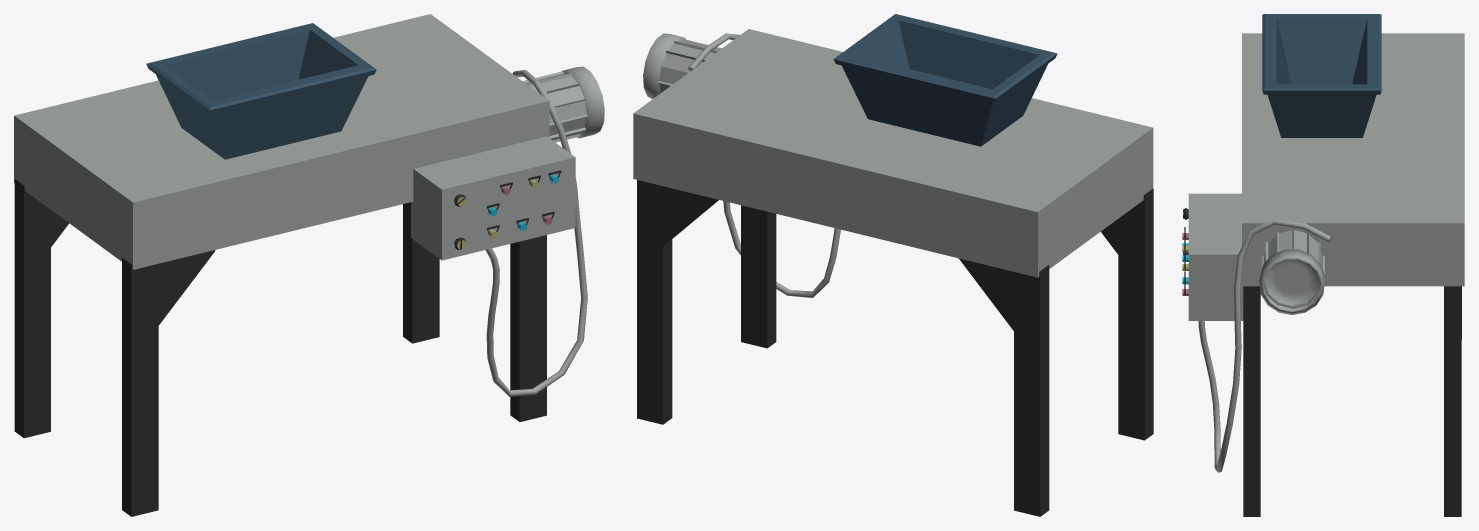
The model's file is paper_recycle_machine.fbx.
3 renders of one model, left to right at view 1: azimuth 30°, elevation 25°; view 2: azimuth 150°, elevation 25°; view 3: azimuth 270°, elevation 25°, orthographic. The views are drawn at different scales.
Visible parts, largest first — view 1: pCube1, pCube10, pCube2, polySurface1, polySurface5, polySurface3, polySurface4, pCylinder19, pCylinder17, pCylinder18; view 2: pCube1, pCube10, polySurface5, polySurface4, polySurface1, polySurface3, pCylinder19, pCylinder17, pCylinder18; view 3: pCube1, pCube10, pCube2, polySurface4, polySurface3, pCylinder18, pCylinder19, pCylinder17.
Part boxes in pixels (x1,y1,x2,y2): pCube1: [14, 14, 549, 269]; pCube10: [146, 23, 376, 159]; pCube2: [411, 136, 575, 260]; polySurface1: [122, 250, 215, 516]; polySurface5: [14, 179, 68, 438]; polySurface3: [510, 235, 546, 421]; polySurface4: [403, 202, 439, 343]; pCylinder19: [485, 70, 587, 396]; pCylinder17: [522, 71, 588, 142]; pCylinder18: [561, 66, 604, 138]; pCube1: [633, 29, 1153, 277]; pCube10: [833, 14, 1057, 146]; polySurface5: [959, 258, 1049, 516]; polySurface4: [637, 180, 718, 424]; polySurface1: [1101, 188, 1153, 440]; polySurface3: [741, 205, 776, 348]; pCylinder19: [688, 33, 840, 297]; pCylinder17: [655, 39, 721, 95]; pCylinder18: [643, 33, 685, 99]; pCube1: [1242, 33, 1464, 286]; pCube10: [1262, 14, 1381, 137]; pCube2: [1188, 193, 1243, 320]; polySurface4: [1444, 286, 1461, 516]; polySurface3: [1243, 286, 1260, 516]; pCylinder18: [1259, 249, 1324, 315]; pCylinder19: [1198, 218, 1331, 472]; pCylinder17: [1261, 228, 1324, 308].
Bounding box in the file's own units: 190 × 143 × 103.
